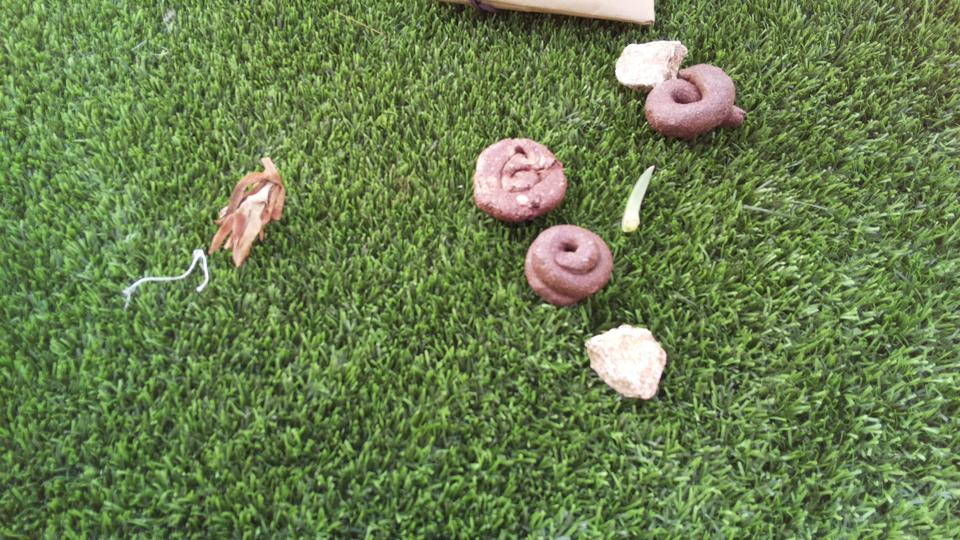poop: (467, 137, 570, 228), (639, 61, 748, 142), (521, 220, 617, 308)
